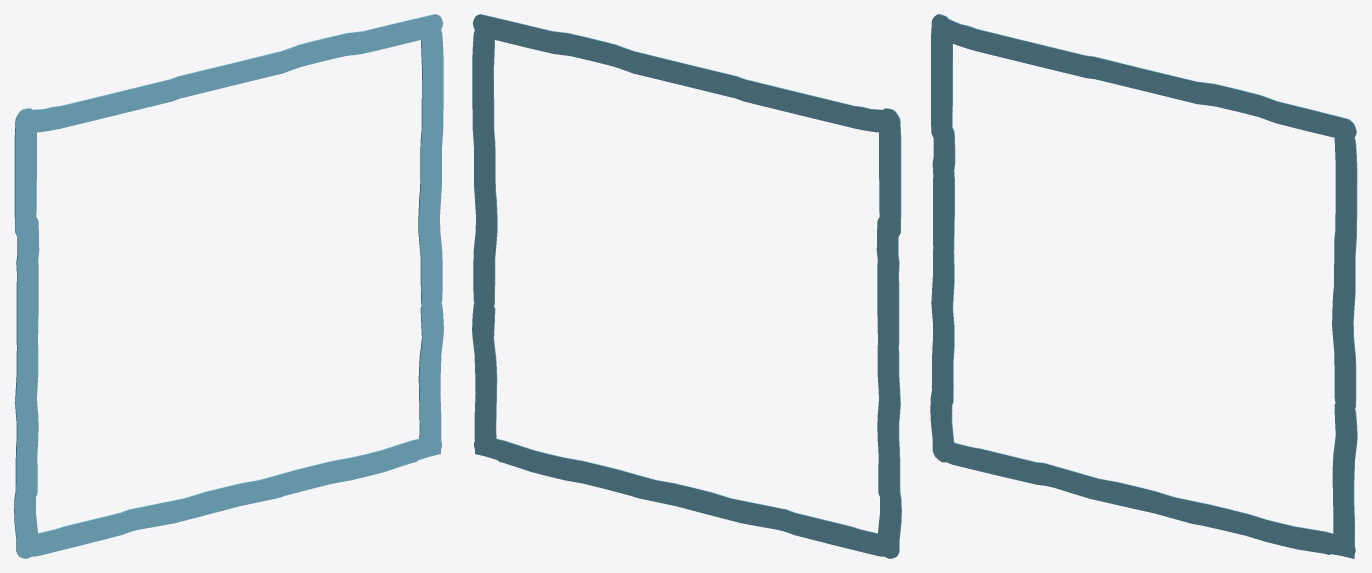
The model's file is tinker.obj.
The picture shows the model from 3 angles, left to right: view 1: azimuth 30°, elevation 25°; view 2: azimuth 150°, elevation 25°; view 3: azimuth 330°, elevation 25°; orthographic projection.
Parts seen in each view (by area): view 1: obj_0; view 2: obj_0; view 3: obj_0.
Boxes of the visible parts, left/top/right/bottom form: obj_0: left=14, top=14, right=443, bottom=558; obj_0: left=472, top=14, right=901, bottom=558; obj_0: left=930, top=14, right=1357, bottom=558.
Bounding box in the file's own units: 40.4 × 40.53 × 0.1.
